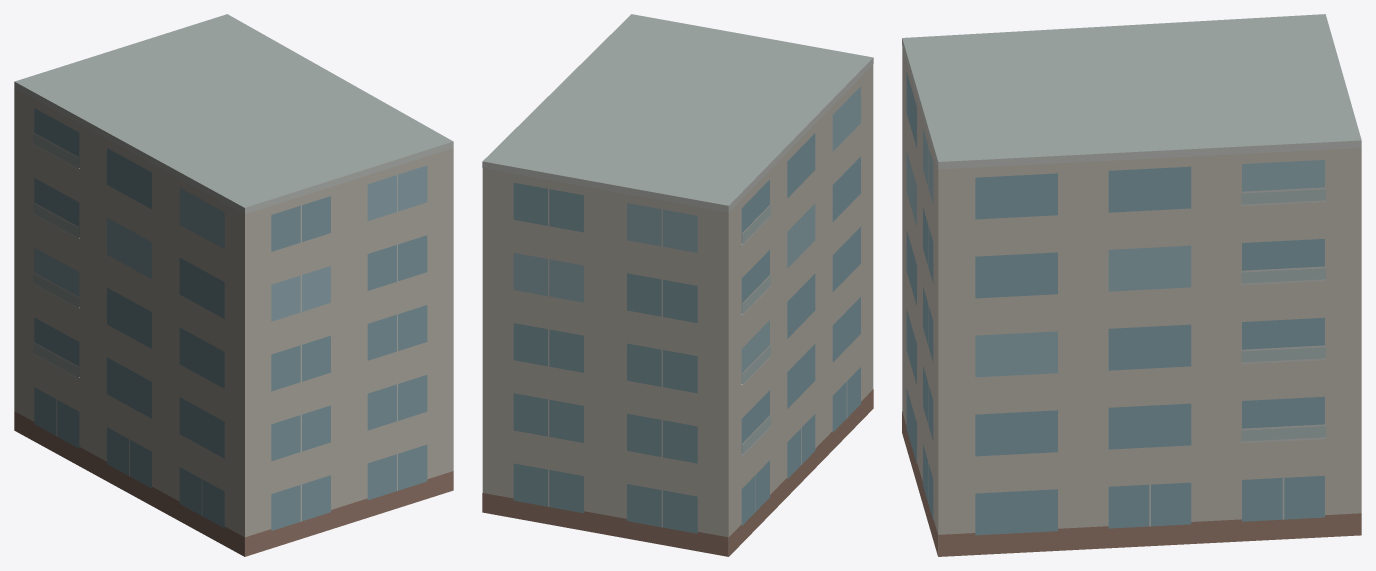
The model's file is survey-upis-33017574.glb.
The picture shows the model from 3 angles, left to right: view 1: azimuth 30°, elevation 25°; view 2: azimuth 150°, elevation 25°; view 3: azimuth 270°, elevation 25°; orthographic projection. The views are drawn at different scales.
Visible parts, largest first — view 1: survey-upis-33017574.tmp; view 2: survey-upis-33017574.tmp; view 3: survey-upis-33017574.tmp.
Part boxes in pixels (x1=…): survey-upis-33017574.tmp: x1=14, y1=14, x2=453, y2=556; survey-upis-33017574.tmp: x1=482, y1=14, x2=873, y2=556; survey-upis-33017574.tmp: x1=902, y1=14, x2=1361, y2=556.
Size of the model in its own units: 10.54 by 13.1 by 13.83.
